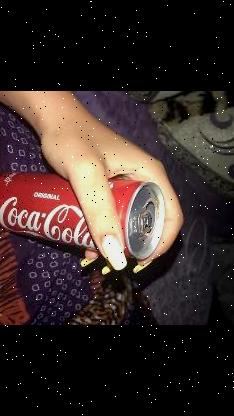Can: (0, 171, 163, 261)
